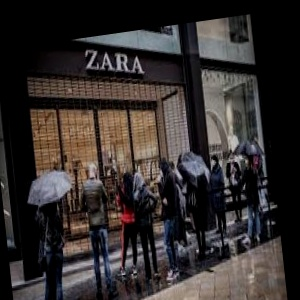zara: (96, 25, 191, 42)
